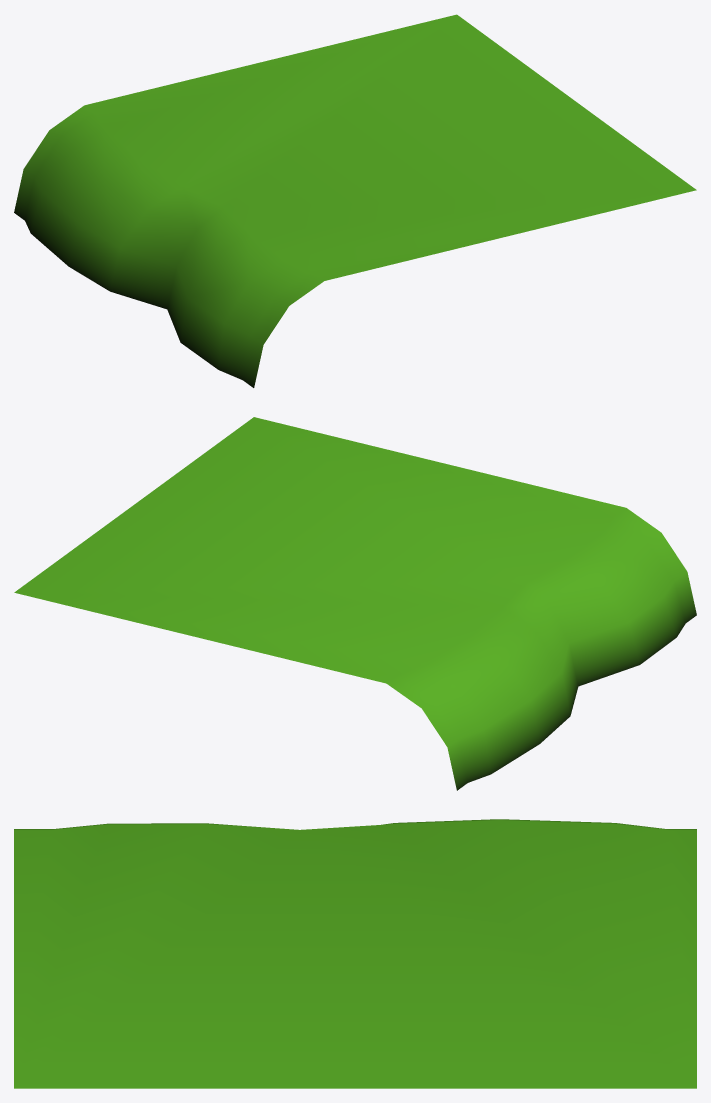
Rendered from Surface_RoadUp00.fbx.
The picture shows the model from 3 angles, top to bottom: view 1: azimuth 30°, elevation 25°; view 2: azimuth 150°, elevation 25°; view 3: azimuth 270°, elevation 25°; orthographic projection. The views are drawn at different scales.
Parts seen in each view (by area): view 1: Surface_RoadUp00; view 2: Surface_RoadUp00; view 3: Surface_RoadUp00.
Part boxes in pixels (x1,y1,x2,y2): Surface_RoadUp00: (14, 14, 696, 387); Surface_RoadUp00: (14, 417, 696, 790); Surface_RoadUp00: (14, 819, 696, 1088).
Bounding box in the file's own units: 2199 × 415 × 2000.
